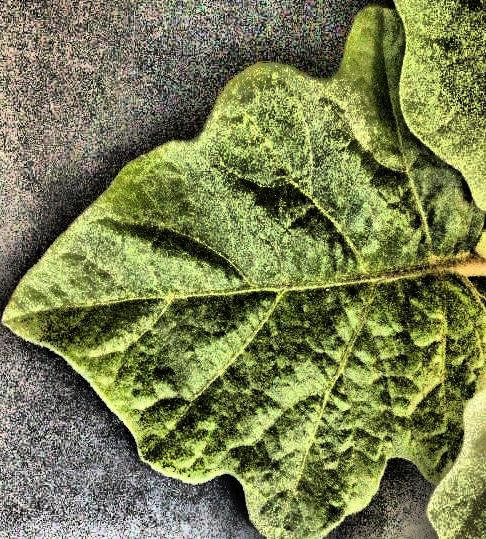HEALTHY: (1, 0, 486, 539)
